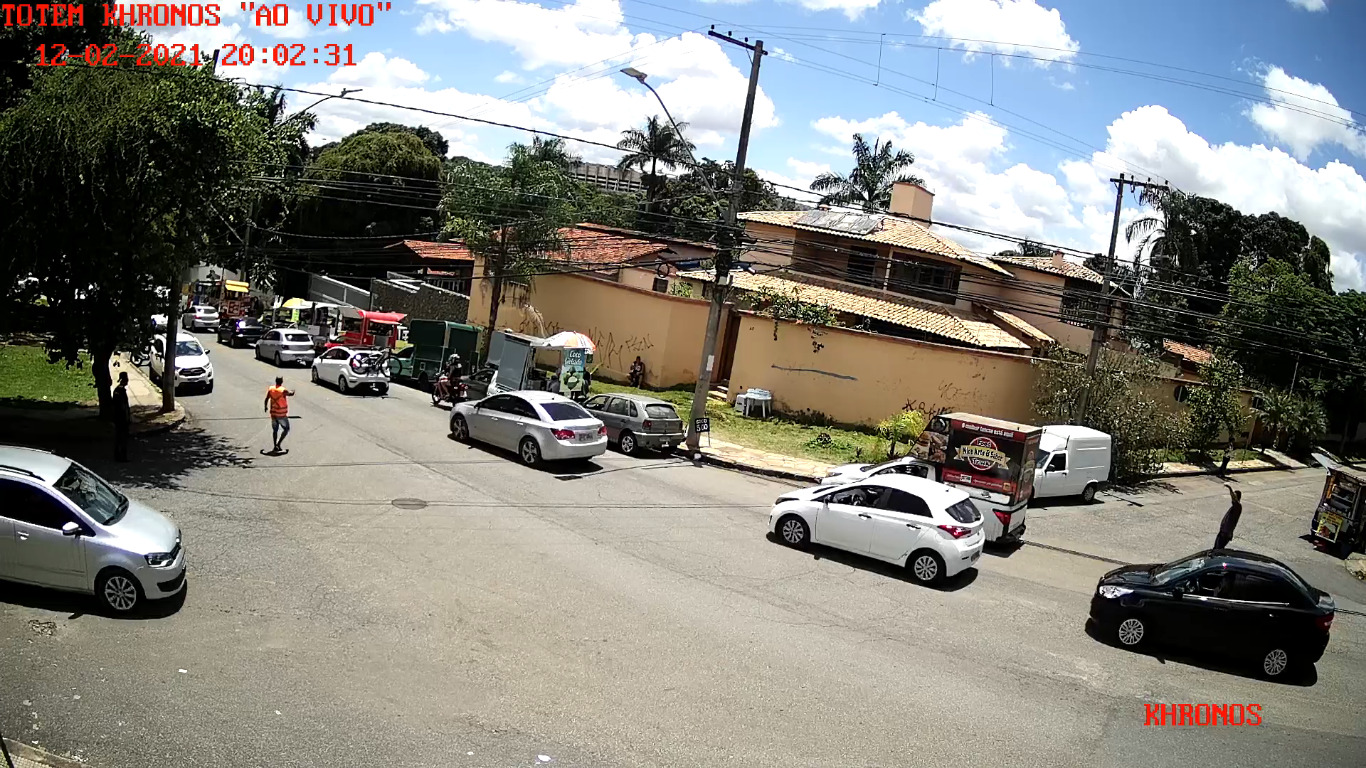car: (1090, 547, 1335, 678), (1, 445, 187, 615), (768, 473, 986, 585), (449, 390, 608, 466)
